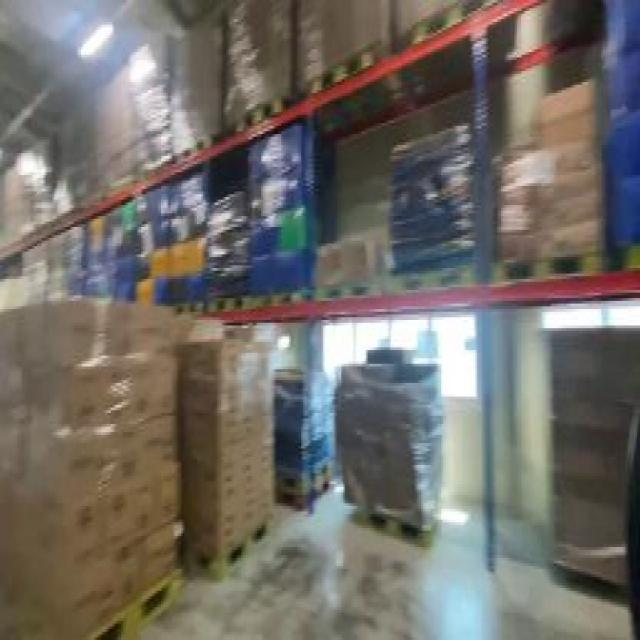box: (2, 285, 178, 629), (529, 315, 637, 607), (180, 309, 282, 574), (336, 328, 438, 544), (498, 80, 604, 276), (386, 134, 479, 290), (244, 126, 322, 306), (262, 366, 343, 512), (126, 180, 206, 312), (221, 0, 300, 131), (166, 16, 222, 148), (297, 0, 378, 88), (120, 44, 168, 172), (203, 188, 251, 314), (75, 213, 131, 312), (314, 230, 391, 301), (88, 82, 132, 202)
